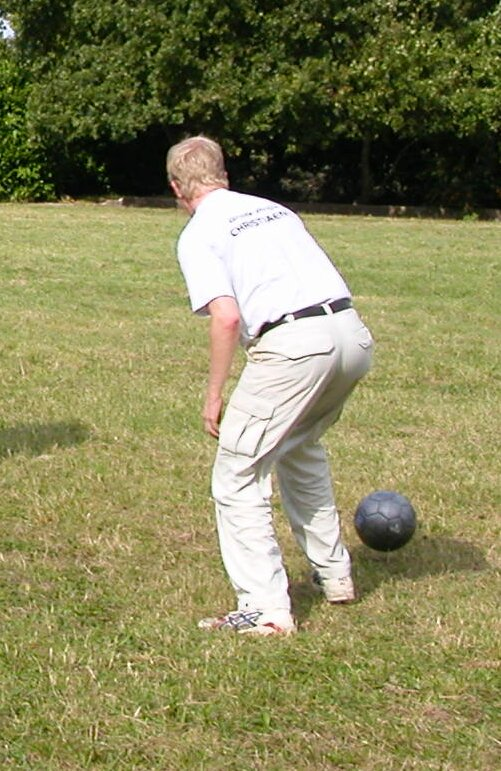person: (151, 131, 385, 644)
